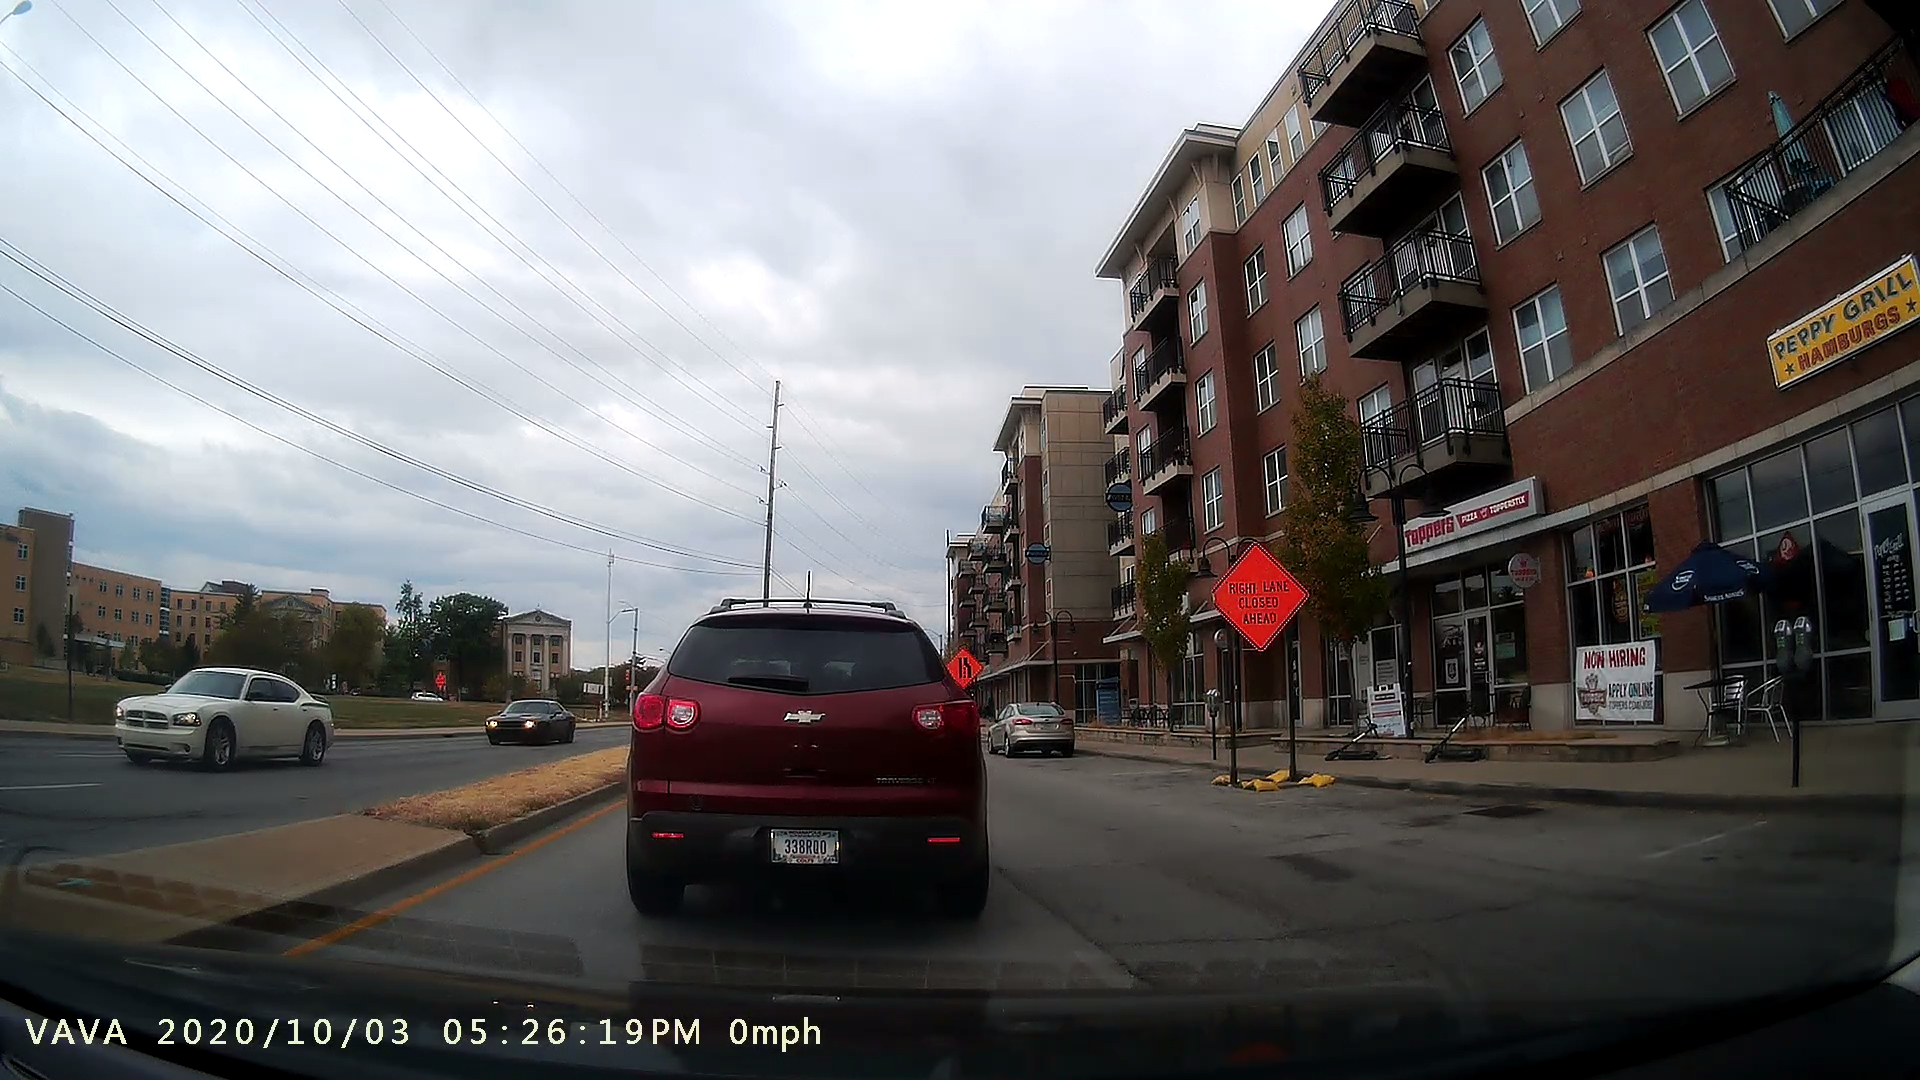ttcs_right_lane_closed_ahead: (1201, 525, 1327, 790)
